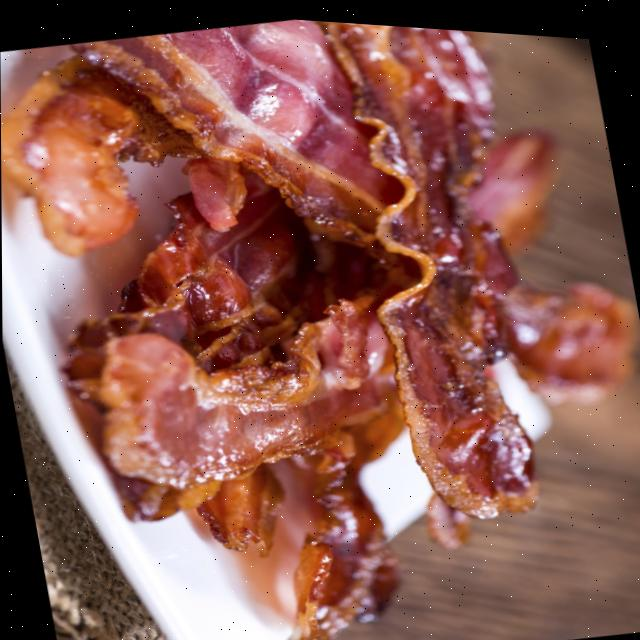Bacon: (323, 17, 537, 511), (71, 15, 400, 240), (95, 293, 392, 487), (1, 55, 199, 255), (292, 436, 398, 640)
